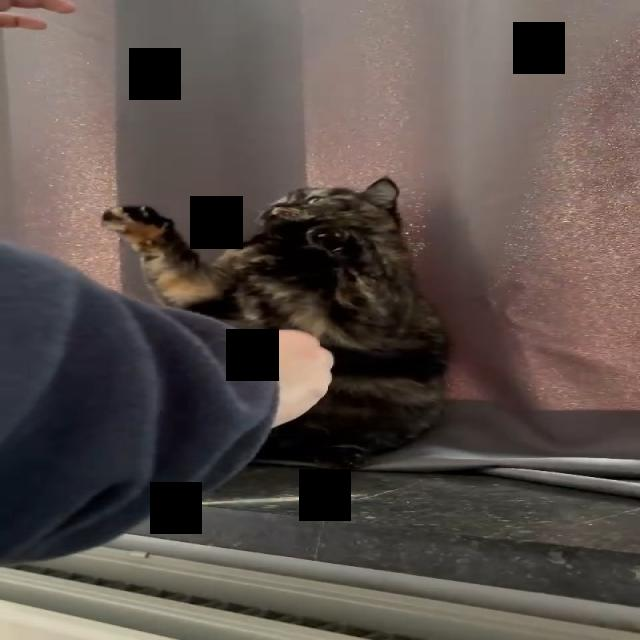authorized: (99, 176, 452, 470), (98, 204, 234, 316)
